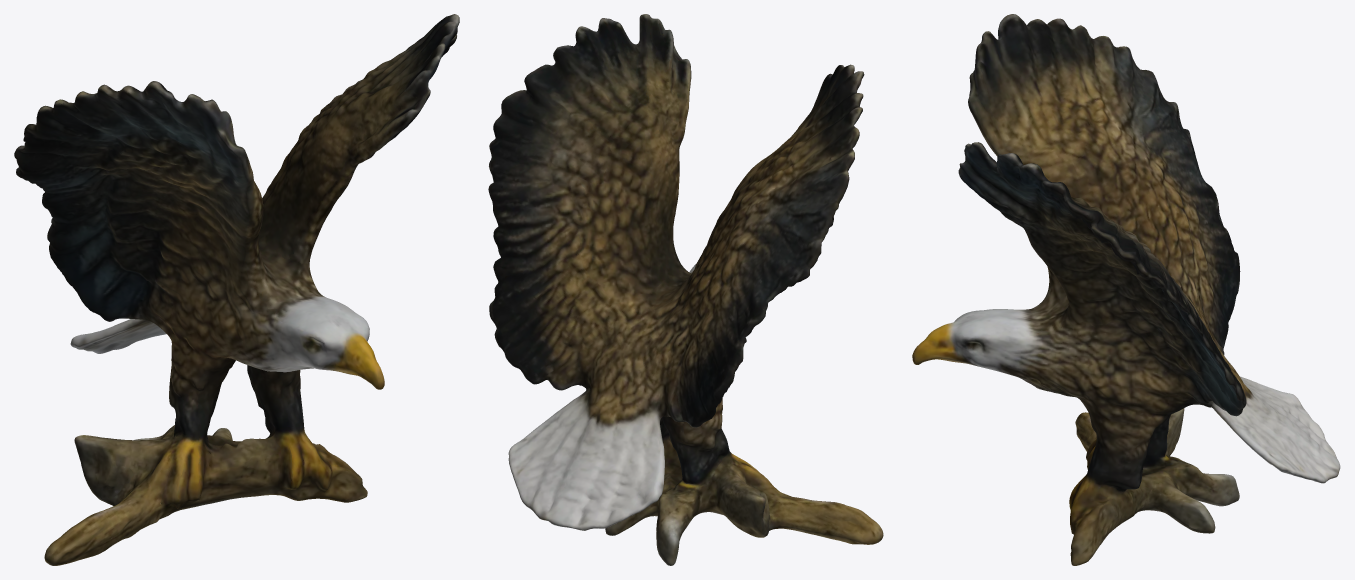
The model's file is Schleich_Bald_Eagle.glb.
3 views of the same model, side by side, from view 1: azimuth 30°, elevation 25°; view 2: azimuth 150°, elevation 25°; view 3: azimuth 270°, elevation 25° (orthographic). The views are drawn at different scales.
Visible parts, largest first — view 1: geometry_0; view 2: geometry_0; view 3: geometry_0.
Boxes of the visible parts, left/top/right/bottom form: geometry_0: left=14, top=14, right=459, bottom=565; geometry_0: left=488, top=14, right=883, bottom=565; geometry_0: left=912, top=14, right=1340, bottom=565.
Bounding box in the file's own units: 0.8713 × 0.9835 × 0.8545.
1 material, 1 textured.
